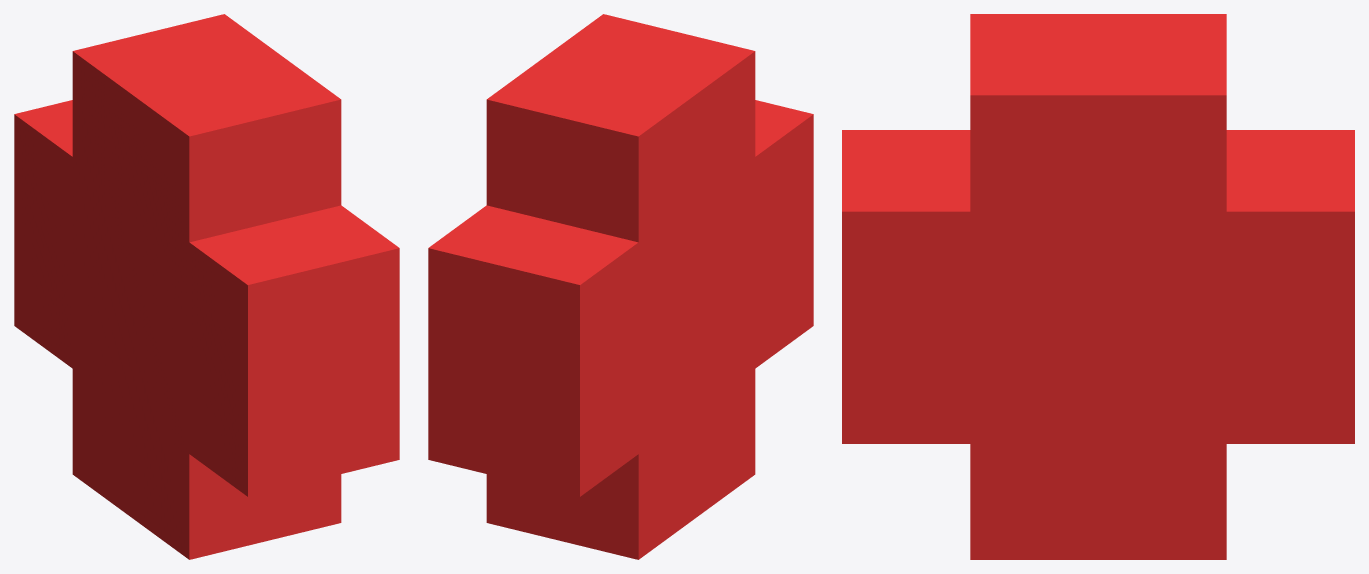
3 views of the same model, side by side, from view 1: azimuth 30°, elevation 25°; view 2: azimuth 150°, elevation 25°; view 3: azimuth 270°, elevation 25° (orthographic). The views are drawn at different scales.
Parts seen in each view (by area): view 1: SketchUp; view 2: SketchUp; view 3: SketchUp.
Boxes of the visible parts, box(x1,y1,x2,y2) form: SketchUp: box(14, 14, 399, 559); SketchUp: box(428, 14, 813, 559); SketchUp: box(842, 14, 1354, 559).
Size of the model in its own units: 38.58 by 103 by 103.
